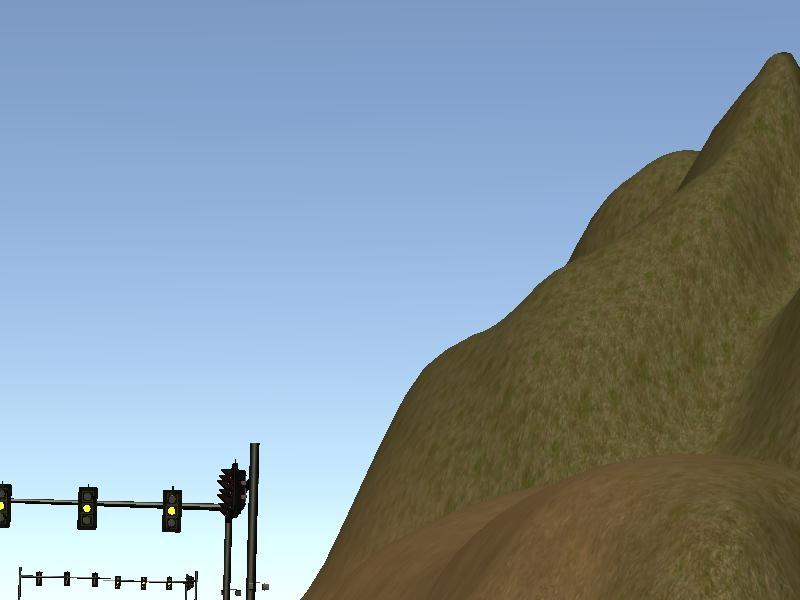YELLOW: (77, 487, 97, 531), (161, 488, 181, 532)
